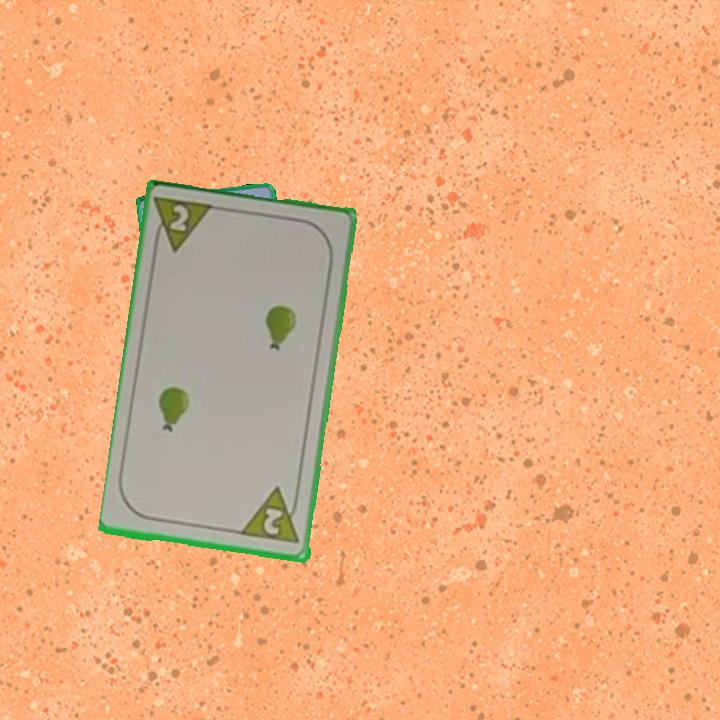2p: (149, 193, 218, 256), (239, 484, 303, 547)
